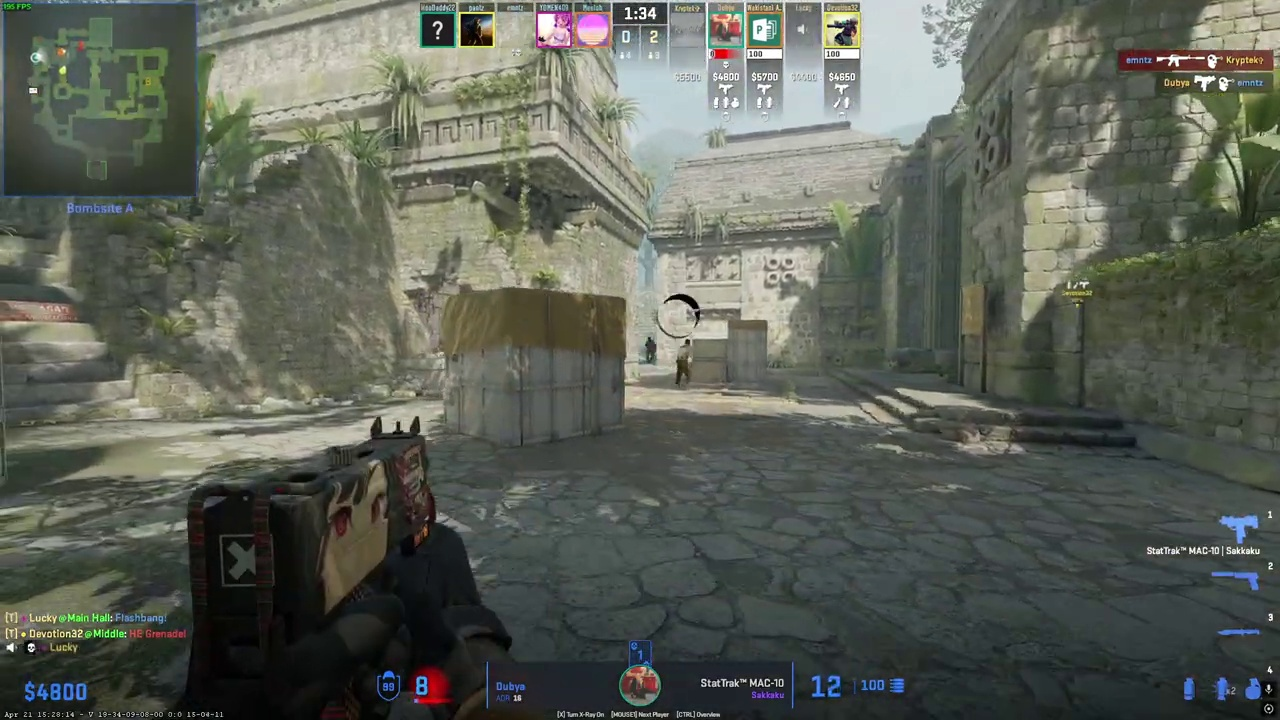CT: (645, 337, 655, 362)
Terrorist: (672, 336, 695, 387)
